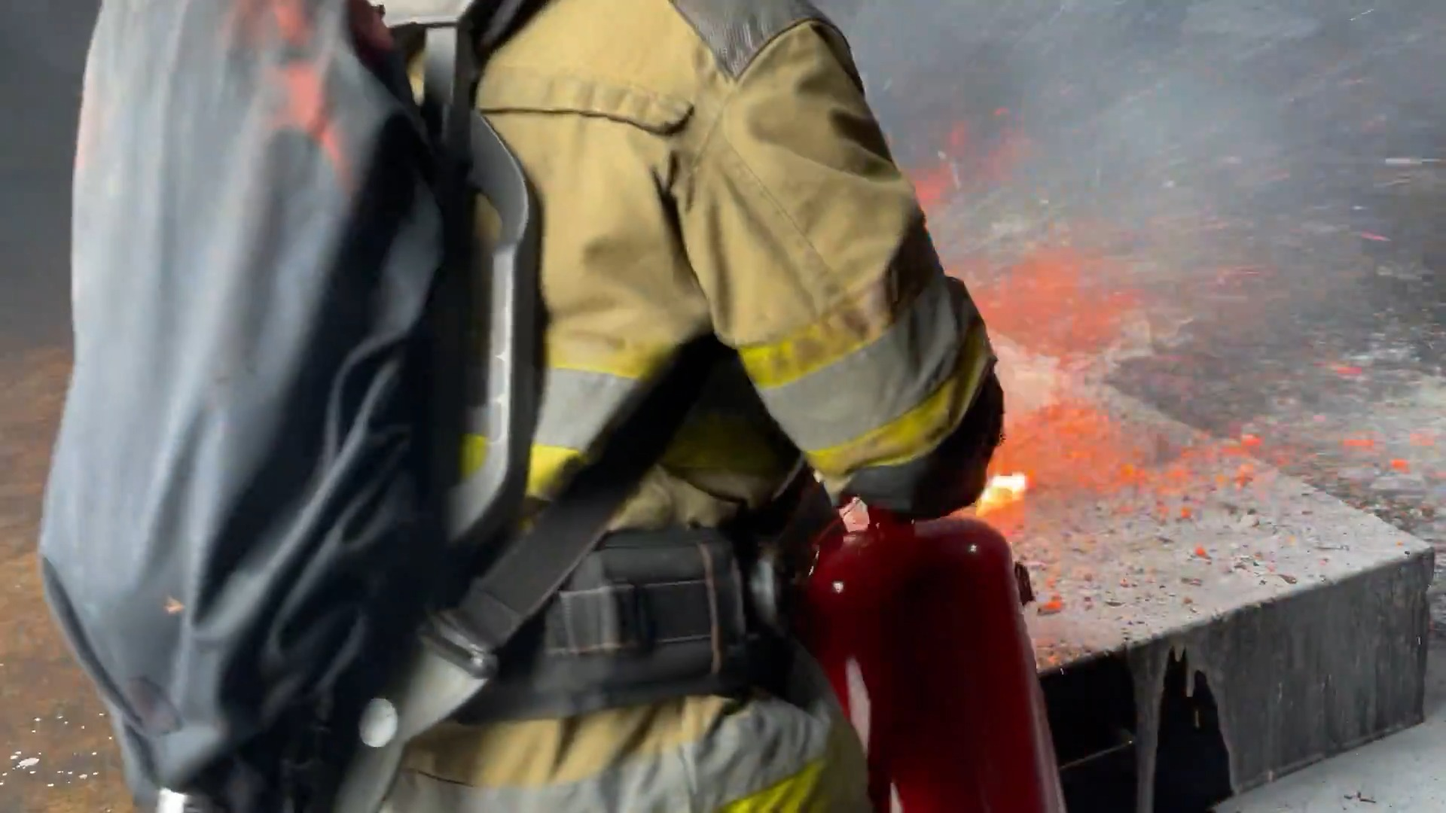fire: (975, 470, 1032, 520)
